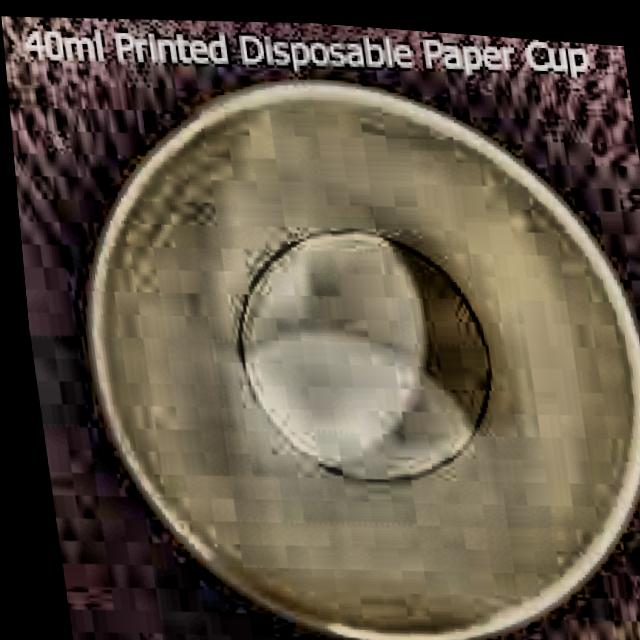Cup: (28, 39, 640, 640)
